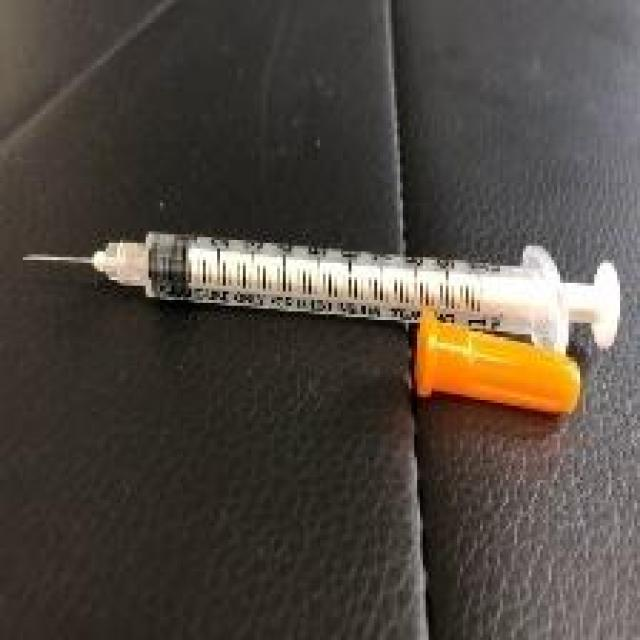syringe: (15, 196, 629, 428)
